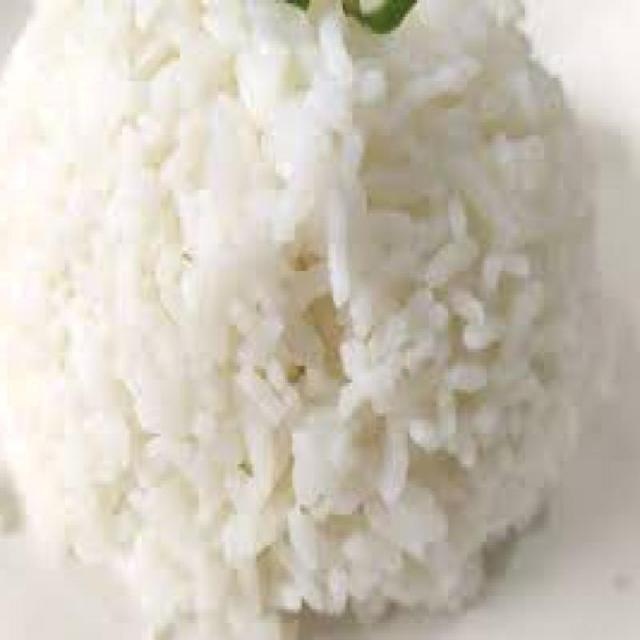rice: (1, 0, 594, 639)
